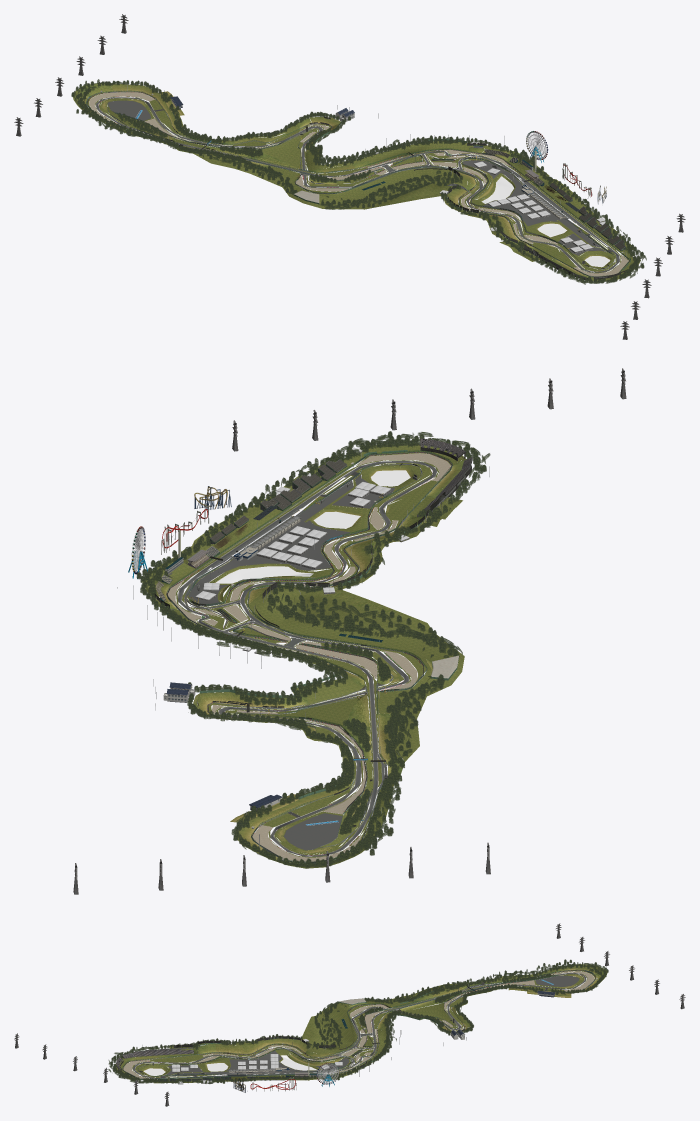
File: suzuka.glb
3 views of the same model, one above another, from view 1: azimuth 30°, elevation 25°; view 2: azimuth 150°, elevation 25°; view 3: azimuth 270°, elevation 25° (orthographic). The views are drawn at different scales.
Parts seen in each view (by area): view 1: Object_65, Object_91, Object_74, Object_67, Object_61, Object_64, Object_70, Object_90, Object_62, Object_89, Object_13, Object_8 (+3 smaller); view 2: Object_91, Object_65, Object_74, Object_67, Object_64, Object_70, Object_61, Object_90, Object_13, Object_62, Object_8, Object_4 (+8 smaller); view 3: Object_91, Object_65, Object_61, Object_67, Object_74, Object_64, Object_70, Object_90, Object_62, Object_13, Object_89, Object_57 (+4 smaller).
Boxes of the visible parts, x1,y1,x2,y2 form: Object_65: (73, 90, 640, 281); Object_91: (71, 79, 646, 284); Object_74: (95, 97, 619, 272); Object_67: (99, 98, 621, 271); Object_61: (83, 83, 611, 275); Object_64: (89, 92, 628, 276); Object_70: (107, 100, 605, 255); Object_90: (86, 90, 630, 276); Object_62: (78, 83, 588, 277); Object_89: (14, 14, 685, 339); Object_13: (93, 91, 628, 277); Object_8: (365, 147, 640, 257); Object_91: (136, 431, 490, 868); Object_65: (145, 444, 466, 868); Object_74: (177, 460, 437, 856); Object_67: (176, 460, 433, 855); Object_64: (168, 453, 450, 861); Object_70: (189, 475, 394, 850); Object_61: (156, 466, 460, 863); Object_90: (166, 450, 452, 862); Object_13: (167, 452, 452, 863); Object_62: (142, 460, 463, 868); Object_8: (196, 447, 409, 656); Object_4: (215, 470, 410, 583); Object_91: (108, 959, 608, 1083); Object_65: (115, 964, 603, 1083); Object_61: (134, 968, 601, 1074); Object_67: (135, 974, 584, 1078); Object_74: (132, 973, 586, 1078); Object_64: (123, 971, 594, 1078); Object_70: (164, 975, 579, 1075); Object_90: (122, 970, 595, 1078); Object_62: (125, 969, 607, 1077); Object_13: (123, 970, 595, 1078); Object_89: (14, 923, 685, 1106); Object_57: (139, 974, 545, 1079).
Bounding box in the file's own units: 1671 × 158 × 2972.
Materials: 98 (97 with a texture image).
